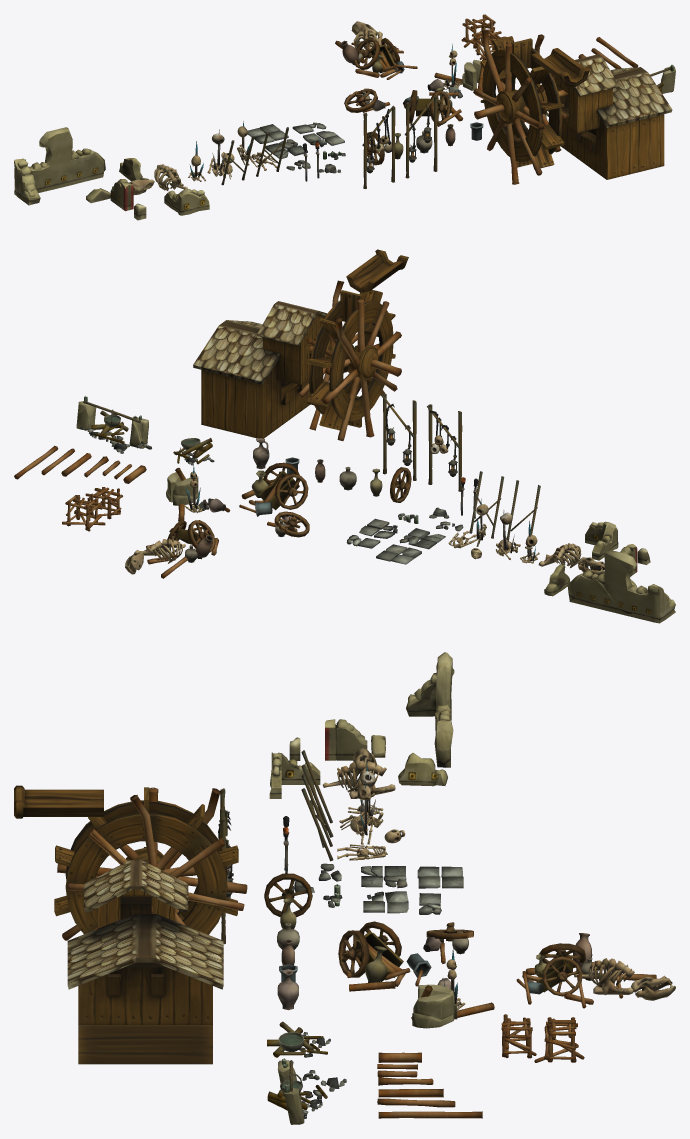
Rendered from DropItems.FBX.
3 renders of one model, top to bottom at view 1: azimuth 30°, elevation 25°; view 2: azimuth 150°, elevation 25°; view 3: azimuth 270°, elevation 25°, orthographic. The views are drawn at different scales.
Visible parts, largest first — view 1: waterMillHouse, waterMill, BrokenWall, Wagon_03, SkeltonTrap, LampSkulls, waterMillPart, Wagon_01, LampNoSkulls, Wagon_02, Cage_02, skelton_000 (+8 smaller); view 2: waterMillHouse, waterMill, BrokenWall, Wagon_03, Wagon_01, Vase6, SkeltonTrap, waterMillPart, LampSkulls, LampNoSkulls, Cage_02, Wagon_02 (+6 smaller); view 3: waterMillHouse, waterMill, BrokenWall, Wagon_03, Wagon_01, waterMillPart, SkeltonTrap, Vase6, Vase7, Cage_02, skelton_000, WagonWheel (+7 smaller).
Part boxes in pixels (<box>): waterMillHouse: <box>554,54,672,179</box>; waterMill: <box>473,29,568,184</box>; BrokenWall: <box>14,127,209,220</box>; Wagon_03: <box>335,21,417,79</box>; SkeltonTrap: <box>427,44,484,98</box>; LampSkulls: <box>362,105,395,188</box>; waterMillPart: <box>531,48,590,86</box>; Wagon_01: <box>403,87,463,126</box>; LampNoSkulls: <box>404,95,437,178</box>; Wagon_02: <box>344,88,390,112</box>; Cage_02: <box>461,14,495,48</box>; skelton_000: <box>154,164,187,190</box>; waterMillHouse: <box>193,301,330,438</box>; waterMill: <box>298,280,401,440</box>; BrokenWall: <box>544,521,675,623</box>; Wagon_03: <box>125,519,218,578</box>; Wagon_01: <box>239,462,308,516</box>; Vase6: <box>76,396,151,453</box>; SkeltonTrap: <box>166,464,230,521</box>; waterMillPart: <box>346,249,408,292</box>; LampSkulls: <box>427,404,462,491</box>; LampNoSkulls: <box>381,393,416,480</box>; Cage_02: <box>62,495,105,531</box>; Wagon_02: <box>267,511,309,537</box>; waterMillHouse: <box>67,860,223,1064</box>; waterMill: <box>54,787,247,940</box>; BrokenWall: <box>269,652,454,798</box>; Wagon_03: <box>516,933,675,1008</box>; Wagon_01: <box>338,921,431,991</box>; waterMillPart: <box>14,785,103,818</box>; SkeltonTrap: <box>411,948,494,1028</box>; Vase6: <box>267,1058,346,1124</box>; Vase7: <box>267,1021,330,1057</box>; Cage_02: <box>534,1017,584,1062</box>; skelton_000: <box>322,760,395,798</box>; WagonWheel: <box>264,873,312,917</box>.
Bounding box in the file's own units: 7076 × 1666 × 4777.
